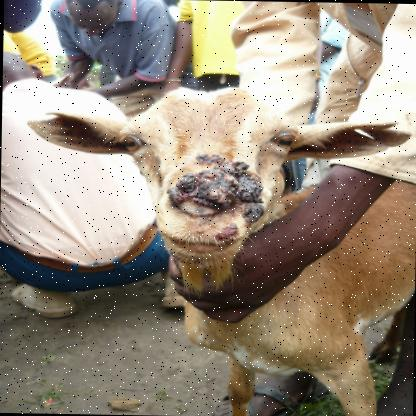ppr: (159, 156, 273, 245)
